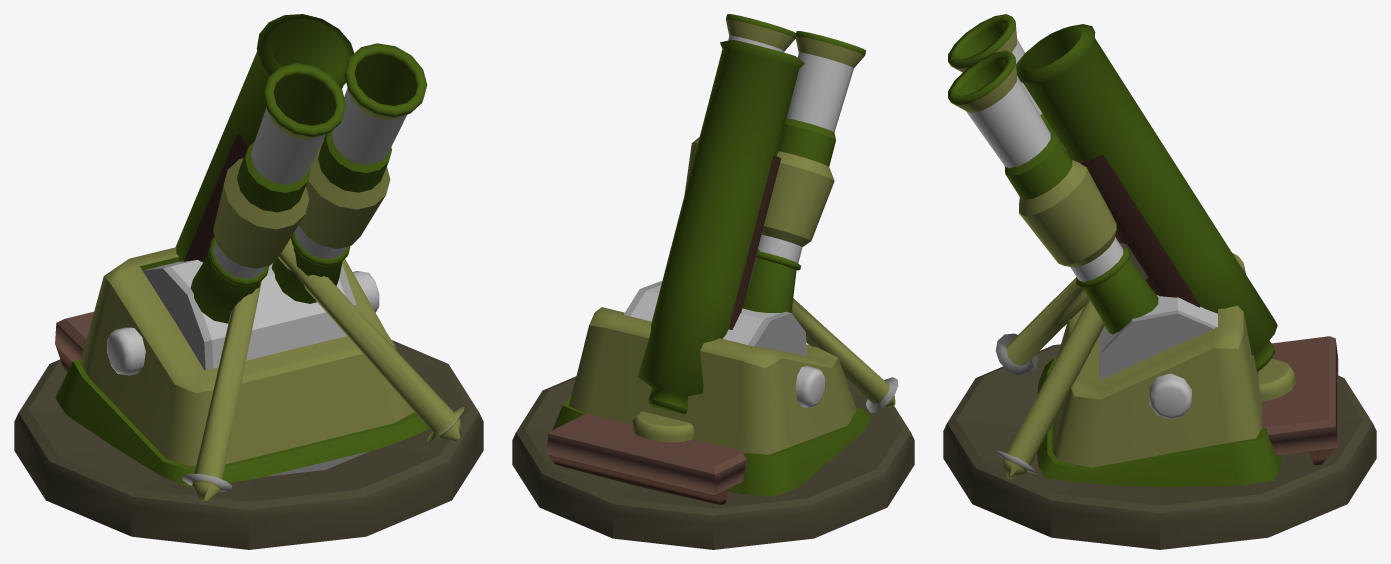
Rendered from mortar.fbx.
The picture shows the model from 3 angles, left to right: view 1: azimuth 30°, elevation 25°; view 2: azimuth 150°, elevation 25°; view 3: azimuth 270°, elevation 25°; orthographic projection. The views are drawn at different scales.
Parts seen in each view (by area): view 1: MortarTower_BASE_L03, MortarTower_BASE_L01, barrel1, base, base_turret, barrel, barrel2; view 2: barrel, MortarTower_BASE_L03, MortarTower_BASE_L01, base_turret, barrel1, barrel2, base; view 3: MortarTower_BASE_L01, MortarTower_BASE_L03, barrel, base, base_turret, barrel2, barrel1.
Part boxes in pixels (x1,y1,x2,y2): MortarTower_BASE_L03: (55,247,429,486); MortarTower_BASE_L01: (14,340,483,549); barrel1: (190,63,346,323); base: (271,43,427,303); base_turret: (55,238,464,501); barrel: (175,14,354,262); barrel2: (143,260,356,370); barrel: (637,40,804,413); MortarTower_BASE_L03: (552,307,872,496); MortarTower_BASE_L01: (512,376,914,549); base_turret: (547,298,898,504); barrel1: (742,31,865,312); barrel2: (624,281,806,356); base: (684,14,795,193); MortarTower_BASE_L01: (943,344,1376,549); MortarTower_BASE_L03: (1037,253,1281,487); barrel: (1016,24,1277,371); base: (948,50,1158,334); base_turret: (995,277,1338,479); barrel2: (1099,295,1217,379); barrel1: (948,14,1066,150).
Bounding box in the file's own units: 6.95 × 7.54 × 6.95.
1 material, 1 textured.
